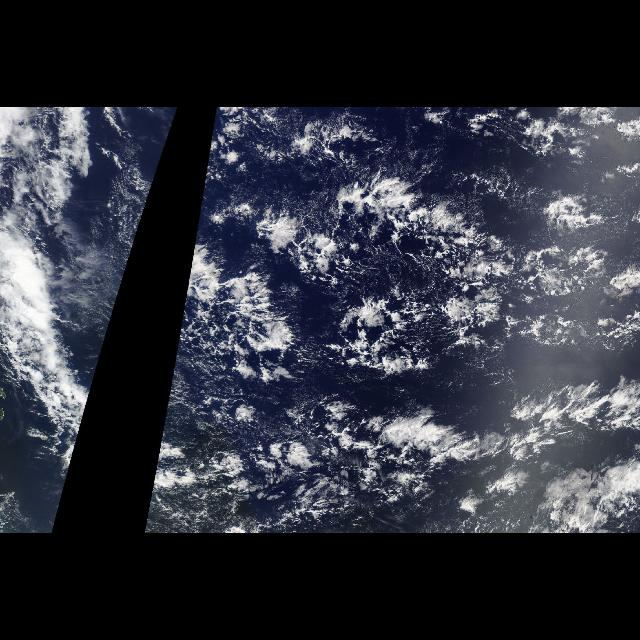Fish: (239, 175, 615, 368)
Gravel: (312, 196, 494, 354), (216, 398, 444, 520)
